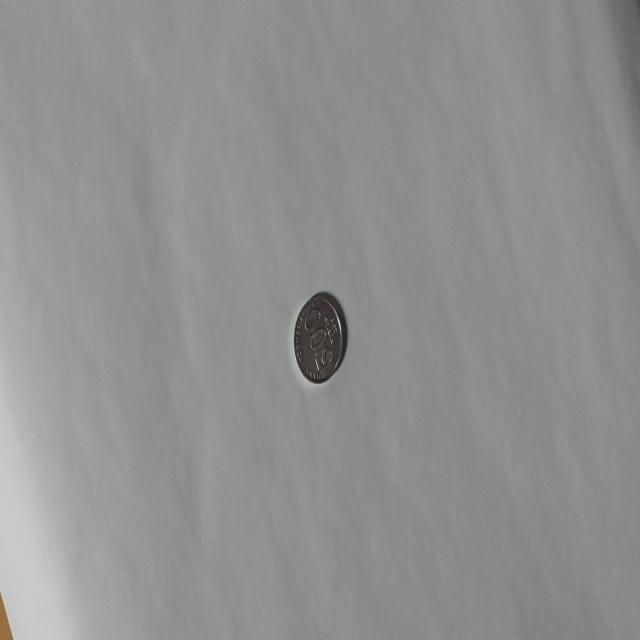lima ratus rupiah: (292, 290, 346, 384)
